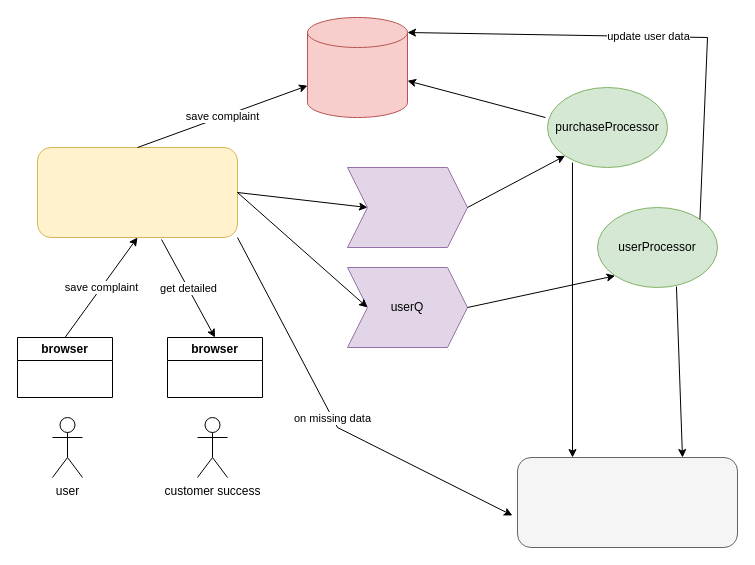
Some shapes in this 755 by 565 pixel diagram are drawn without their labels. The shapes that lost their labels are listed below. From the top down, each one's centre as x and y in pixels, then its label:
At point (357, 67): "mongo".
At point (137, 192): "web server".
At point (407, 207): "purchaseQ".
At point (627, 502): "external services".
